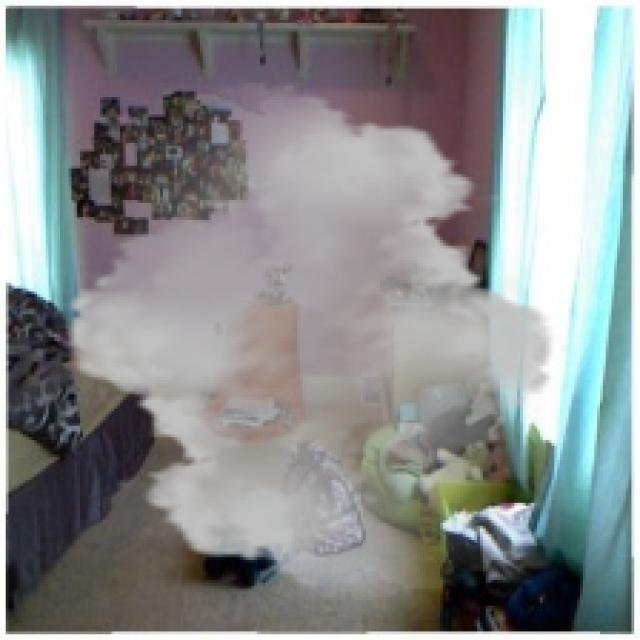smoke: (46, 83, 574, 600)
